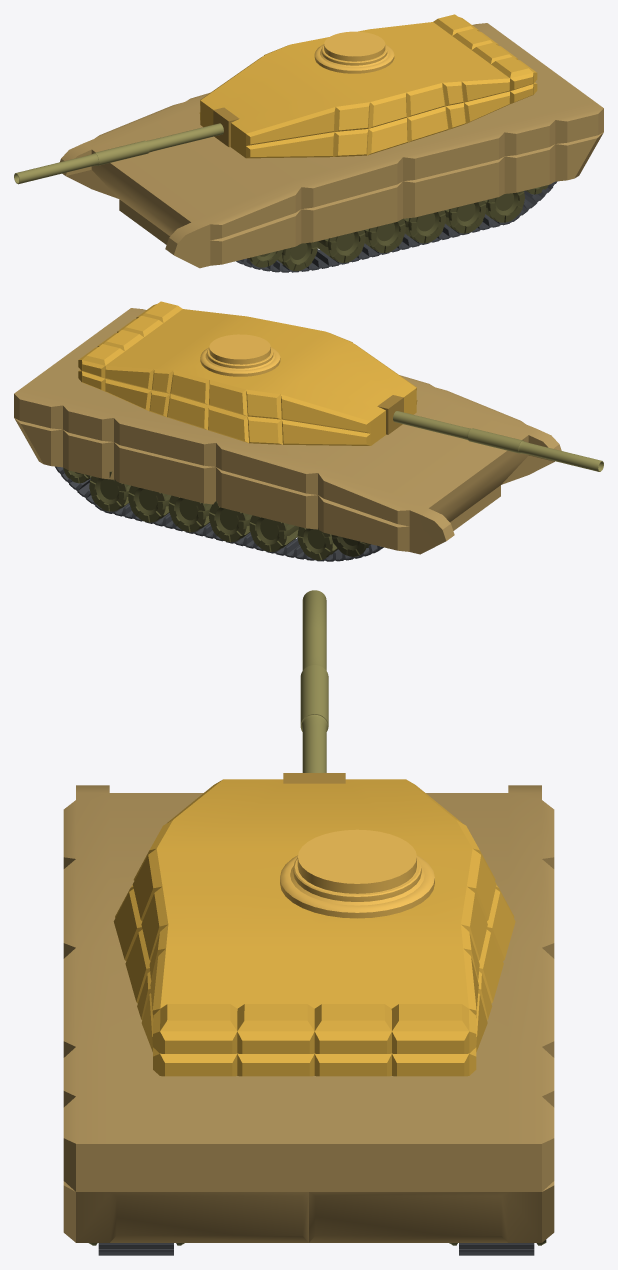
Rendered from Tank04.fbx.
3 renders of one model, top to bottom at view 1: azimuth 30°, elevation 25°; view 2: azimuth 150°, elevation 25°; view 3: azimuth 270°, elevation 25°, orthographic. The views are drawn at different scales.
Parts seen in each view (by area): view 1: TankBody, TankHead, Turret, YatchDoor, TrackWheel, Wheel2.001, Wheel4, Wheel3.001, Wheel5, Wheel6, Wheel1, TurretBox (+1 smaller); view 2: TankBody, TankHead, Turret, YatchDoor, TrackWheel.001, Wheel2.002, Wheel3.002, Wheel4.001, Wheel5.001, Wheel6.002, Wheel1.002, TurretBox (+1 smaller); view 3: TankBody, TankHead, YatchDoor, Turret, TrackWheel, TrackWheel.001.
Part boxes in pixels (<box>): TankBody: <box>60,23,603,268</box>; TankHead: <box>199,14,537,158</box>; Turret: <box>14,123,223,184</box>; YatchDoor: <box>314,31,394,73</box>; TrackWheel: <box>236,181,557,272</box>; Wheel2.001: <box>317,230,365,262</box>; Wheel4: <box>404,210,445,243</box>; Wheel3.001: <box>364,218,405,253</box>; Wheel5: <box>445,200,486,233</box>; Wheel6: <box>485,191,524,222</box>; Wheel1: <box>277,241,317,271</box>; TurretBox: <box>213,107,239,147</box>; TankBody: <box>14,308,561,554</box>; TankHead: <box>78,301,417,445</box>; Turret: <box>393,411,603,471</box>; YatchDoor: <box>200,334,280,376</box>; TrackWheel.001: <box>55,466,383,561</box>; Wheel2.002: <box>249,515,299,551</box>; Wheel3.002: <box>209,501,252,542</box>; Wheel4.001: <box>168,495,212,532</box>; Wheel5.001: <box>128,485,171,522</box>; Wheel6.002: <box>89,471,130,511</box>; Wheel1.002: <box>297,527,337,560</box>; TurretBox: <box>377,395,403,434</box>; TankBody: <box>63,785,554,1242</box>; TankHead: <box>113,779,515,1076</box>; YatchDoor: <box>280,829,434,918</box>; Turret: <box>300,590,328,772</box>; TrackWheel: <box>98,1243,173,1255</box>; TrackWheel.001: <box>459,1243,534,1255</box>.
Size of the model in its own units: 1720 by 483 by 693.
